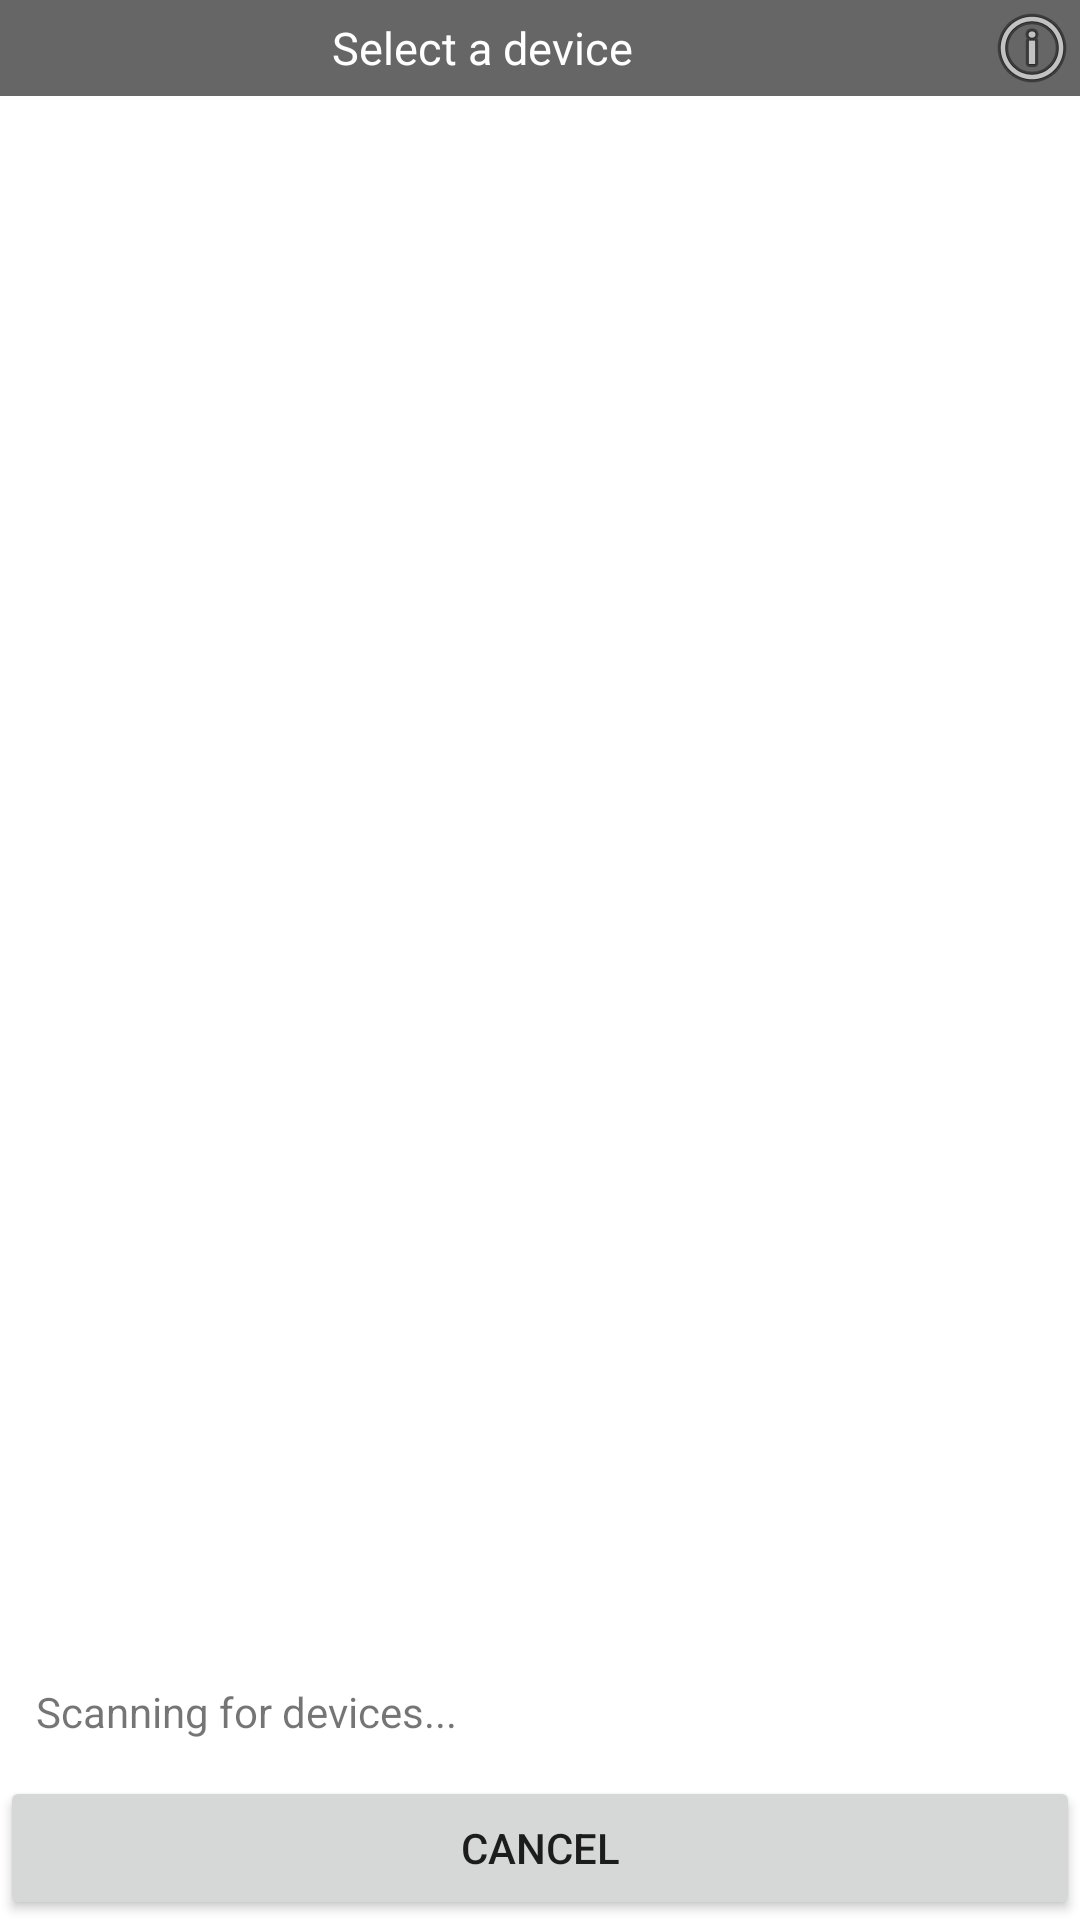

Where to tap for icons on this 1080 × 1920 app screen, as (x=x, y=y):
info details: (x=1032, y=48)
